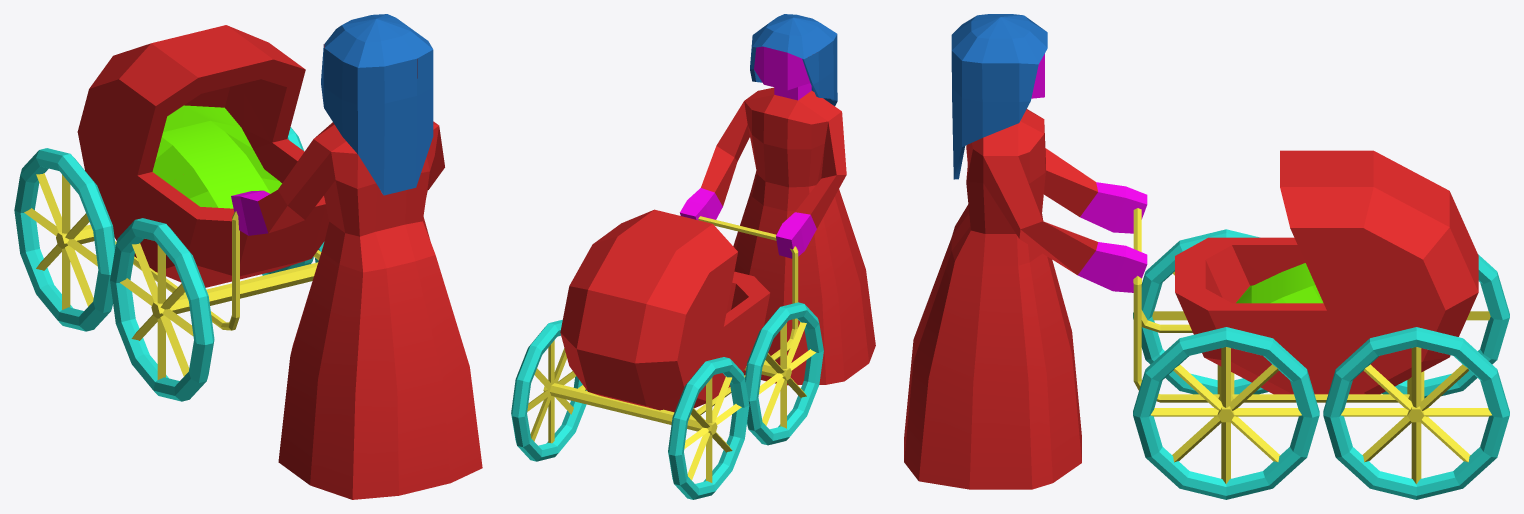
File: WomanAndBabycarriage.fbx
3 views of the same model, side by side, from view 1: azimuth 30°, elevation 25°; view 2: azimuth 150°, elevation 25°; view 3: azimuth 270°, elevation 25° (orthographic). The views are drawn at different scales.
Parts seen in each view (by area): view 1: Woman, BabyCarige; view 2: BabyCarige, Woman; view 3: BabyCarige, Woman.
Part boxes in pixels (x1,y1,x2,y2): Woman: [231, 14, 482, 499]; BabyCarige: [14, 25, 328, 401]; BabyCarige: [511, 209, 823, 499]; Woman: [680, 14, 875, 385]; BabyCarige: [1133, 150, 1509, 499]; Woman: [904, 14, 1147, 489].
Size of the model in its own units: 1.2 by 2.28 by 2.89.
